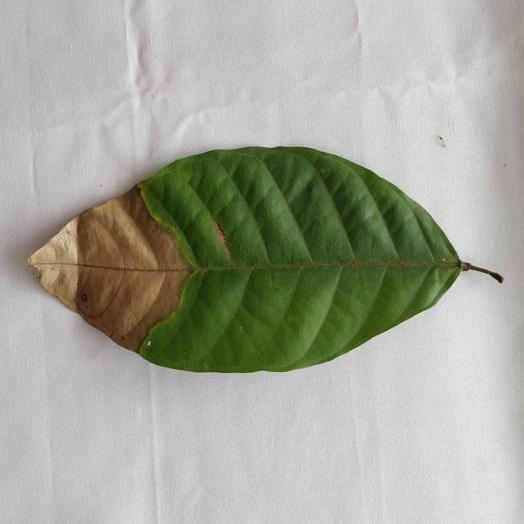Potassium: (28, 147, 502, 371)
